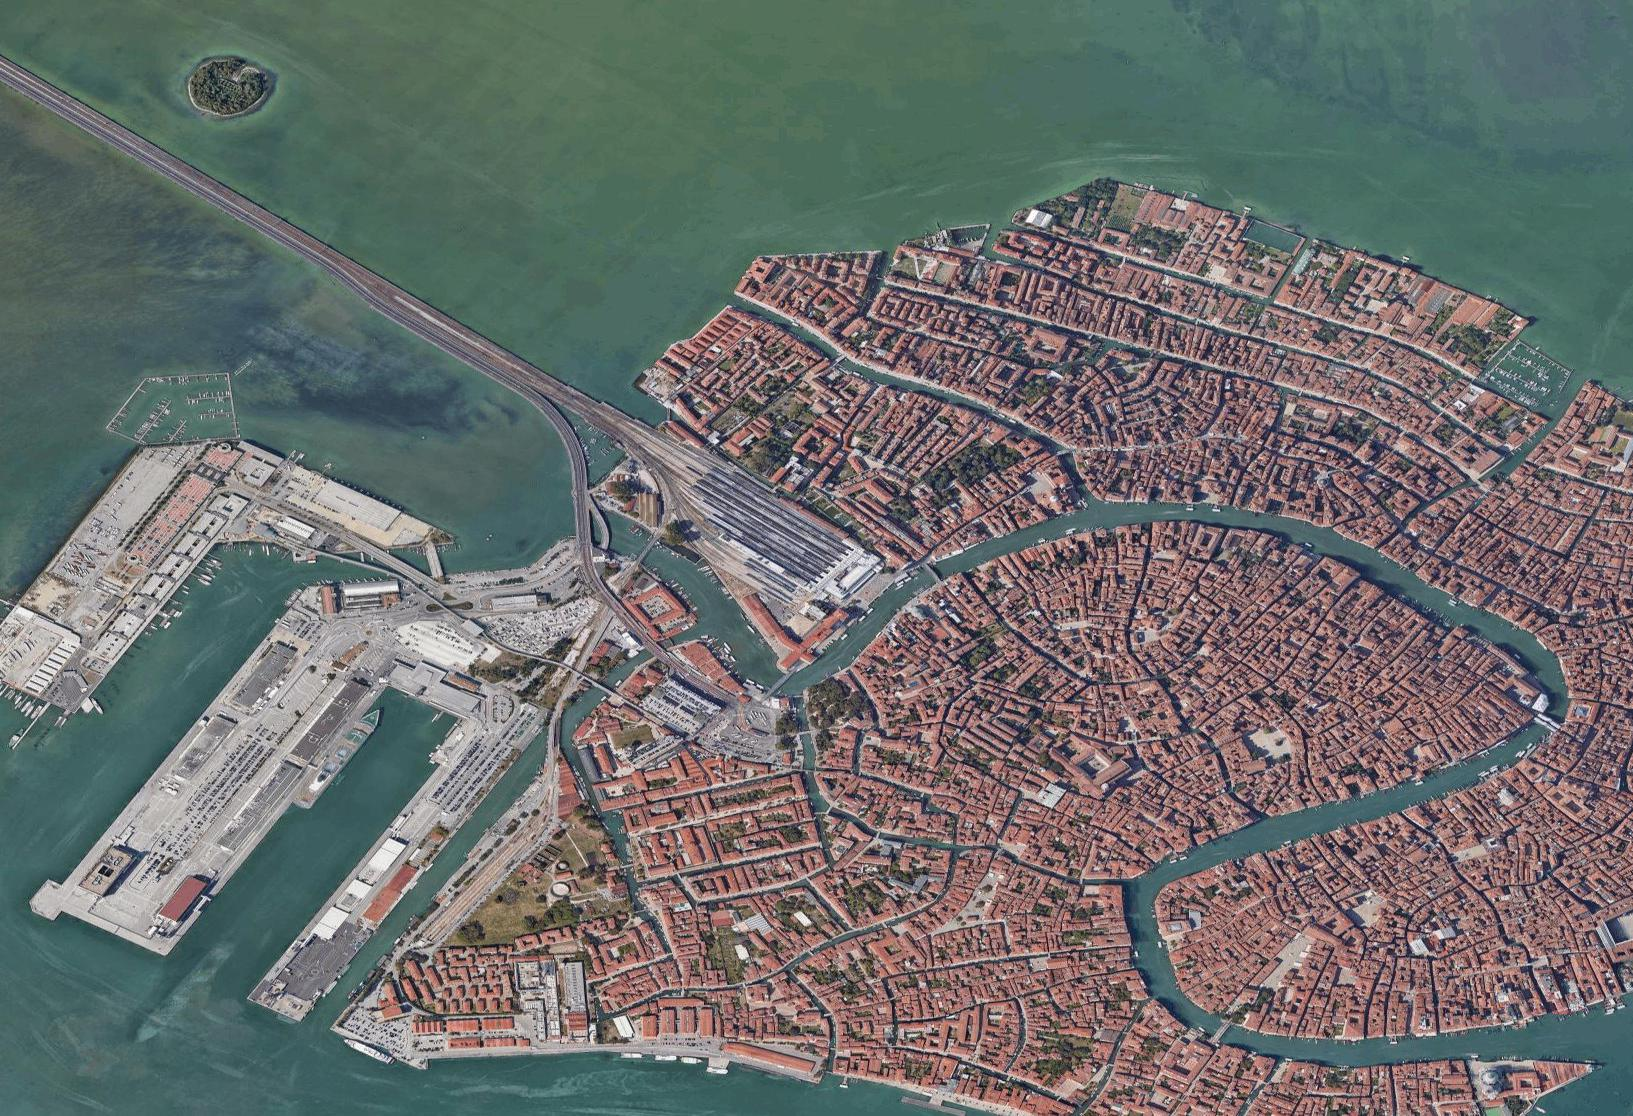bridge: (640, 638, 671, 660), (586, 677, 617, 698), (1537, 708, 1560, 731), (1209, 1018, 1231, 1042), (919, 561, 943, 583), (768, 672, 790, 694)
harbor: (1, 387, 601, 1064)
train_station: (565, 403, 876, 629)
